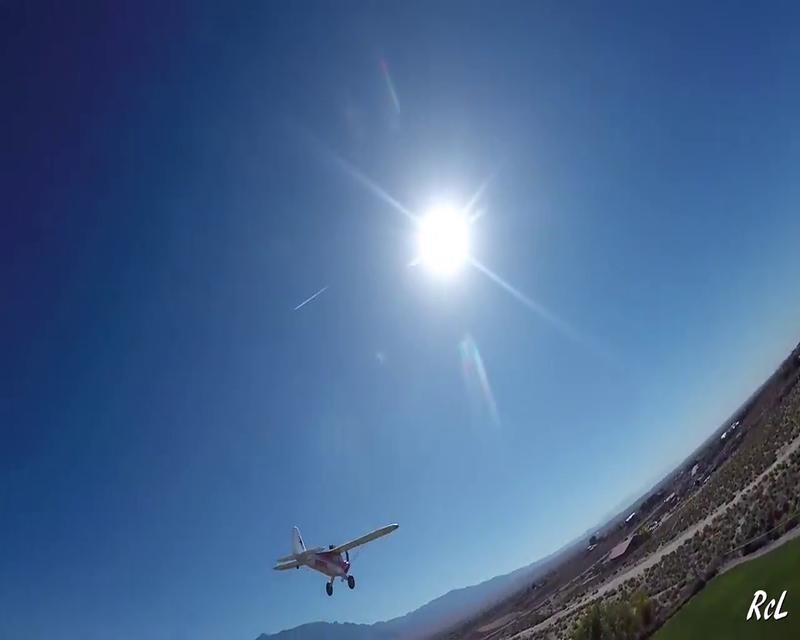UAV: (271, 521, 399, 596)
